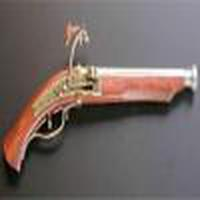gun: (2, 61, 200, 173)
